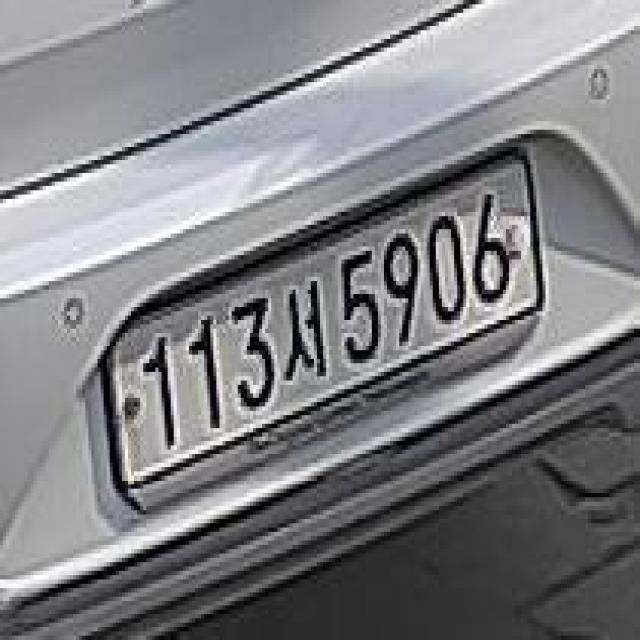illegal_plate: (98, 143, 550, 514)
